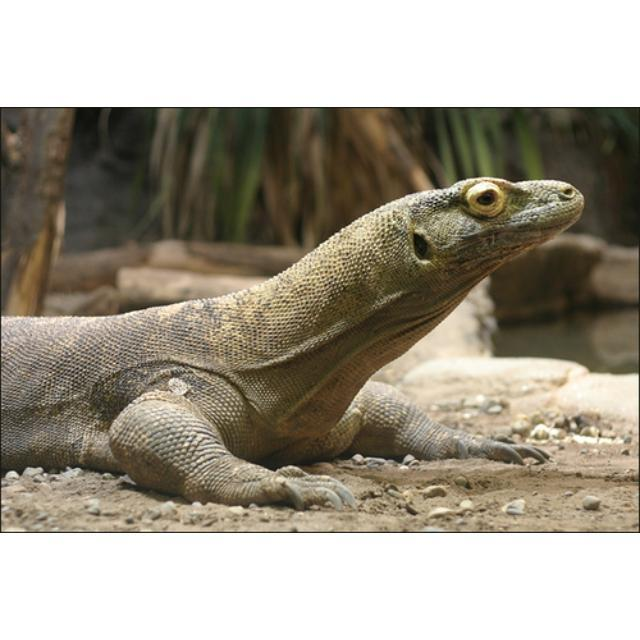KomodoDragon: (0, 175, 584, 511)
